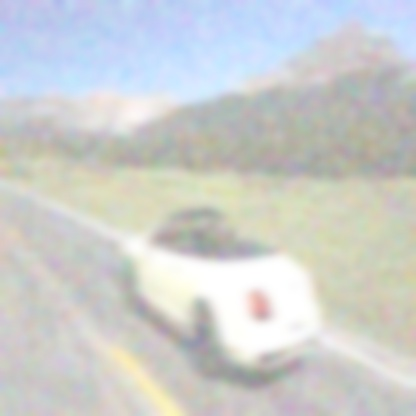Vehicle: (122, 208, 322, 378)
